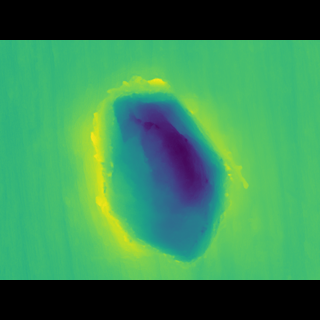Loch: (72, 82, 248, 249)
